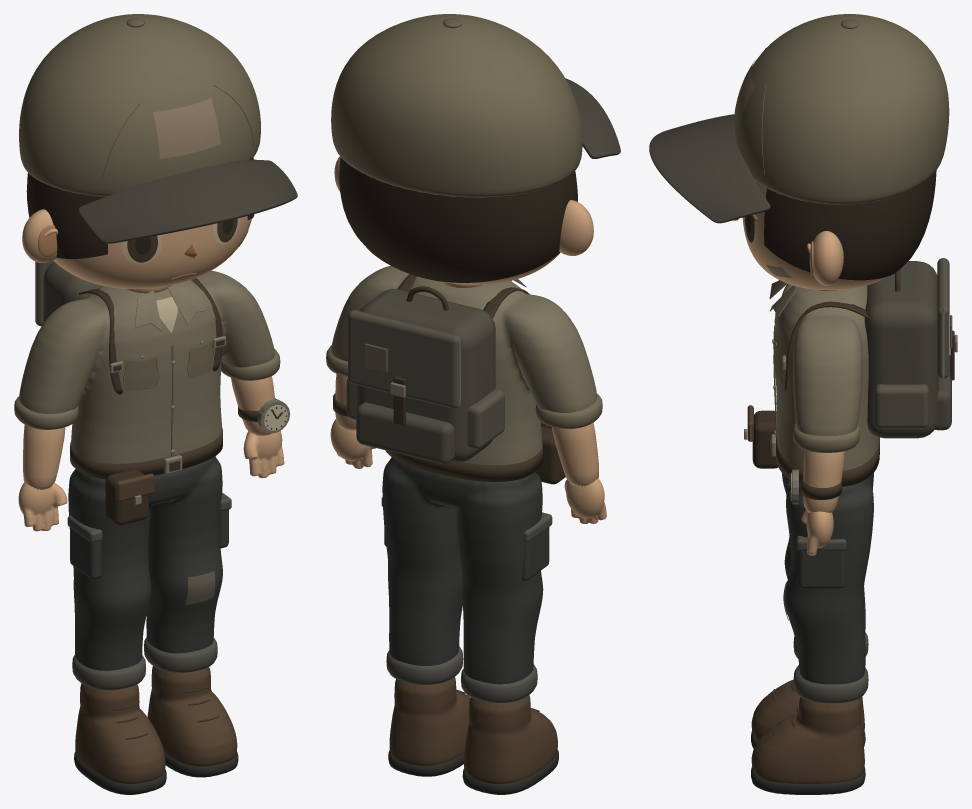
File: StylizedSurvivor.fbx
The picture shows the model from 3 angles, left to right: view 1: azimuth 30°, elevation 25°; view 2: azimuth 150°, elevation 25°; view 3: azimuth 270°, elevation 25°; orthographic projection. The views are drawn at different scales.
Parts seen in each view (by area): view 1: Stylized_Cap, Stylized_Shirt, Stylized_Trousers, Stylized_Boots, Stylized_Head, Stylized_Backpack, Stylized_Body, Stylized_Hair, Stylized_Hands, Stylized_BeltPouch, Stylized_Belt, Stylized_Face (+1 smaller); view 2: Stylized_Cap, Stylized_Trousers, Stylized_Backpack, Stylized_Hair, Stylized_Shirt, Stylized_Boots, Stylized_Body, Stylized_Hands, Stylized_Belt, Stylized_Head, Stylized_BeltPouch; view 3: Stylized_Cap, Stylized_Shirt, Stylized_Trousers, Stylized_Backpack, Stylized_Boots, Stylized_Hair, Stylized_Head, Stylized_Body, Stylized_BeltPouch, Stylized_Belt, Stylized_Hands, Stylized_Watch.
Part boxes in pixels (x1,y1,x2,y2): Stylized_Cap: [19, 14, 297, 243]; Stylized_Shirt: [14, 270, 280, 463]; Stylized_Trousers: [67, 456, 231, 690]; Stylized_Boots: [74, 666, 238, 794]; Stylized_Head: [22, 159, 256, 289]; Stylized_Backpack: [35, 260, 225, 394]; Stylized_Body: [23, 285, 275, 489]; Stylized_Hair: [26, 157, 254, 258]; Stylized_Hands: [18, 431, 284, 531]; Stylized_BeltPouch: [105, 469, 154, 525]; Stylized_Belt: [70, 427, 222, 479]; Stylized_Face: [121, 218, 248, 279]; Stylized_Cap: [331, 14, 620, 197]; Stylized_Trousers: [381, 457, 552, 702]; Stylized_Backpack: [346, 274, 529, 464]; Stylized_Hair: [339, 157, 577, 282]; Stylized_Shirt: [326, 265, 602, 465]; Stylized_Boots: [388, 677, 558, 794]; Stylized_Body: [335, 281, 598, 486]; Stylized_Hands: [330, 419, 606, 523]; Stylized_Belt: [385, 442, 542, 481]; Stylized_Head: [334, 156, 593, 284]; Stylized_BeltPouch: [536, 422, 565, 484]; Stylized_Cap: [649, 14, 949, 223]; Stylized_Shirt: [769, 280, 878, 470]; Stylized_Trousers: [782, 473, 873, 703]; Stylized_Backpack: [781, 258, 957, 438]; Stylized_Boots: [751, 679, 865, 794]; Stylized_Hair: [764, 170, 936, 280]; Stylized_Head: [742, 181, 888, 290]; Stylized_Body: [803, 289, 844, 512]; Stylized_BeltPouch: [744, 405, 778, 468]; Stylized_Belt: [769, 434, 879, 486]; Stylized_Hands: [801, 510, 833, 555]; Stylized_Watch: [788, 469, 841, 504].
Size of the model in its own units: 67.07 by 179 by 67.58.
